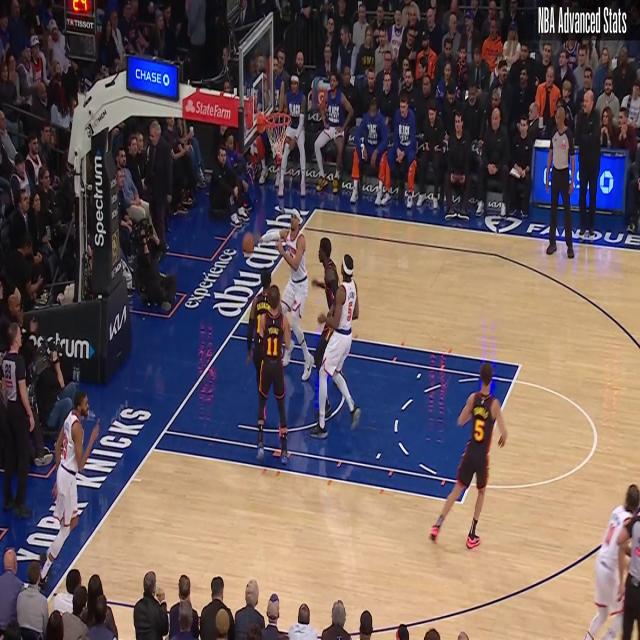ball: (242, 226, 256, 263)
judge: (2, 327, 43, 512), (0, 319, 34, 523), (546, 103, 576, 261)
player: (424, 360, 502, 545), (38, 401, 100, 575), (312, 252, 361, 442), (259, 214, 311, 378), (583, 488, 636, 638), (252, 285, 290, 463), (316, 229, 344, 432), (251, 268, 280, 446), (245, 268, 277, 419)
